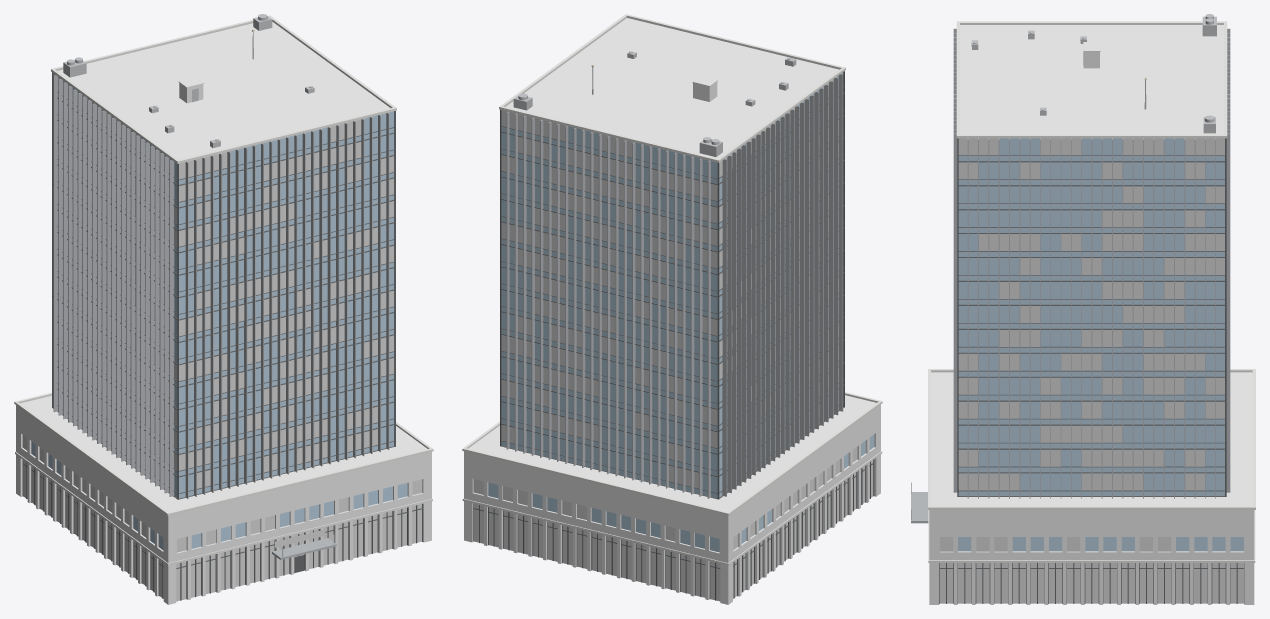
The model's file is tower_p260b.glb.
The picture shows the model from 3 angles, left to right: view 1: azimuth 30°, elevation 25°; view 2: azimuth 150°, elevation 25°; view 3: azimuth 270°, elevation 25°; orthographic projection. The views are drawn at different scales.
Visible parts, largest first — view 1: tower_p260b_Accent, tower_p260b_Glass, tower_p260b_Roof, tower_p260b_WindowsLit, tower_p260b_Walls2, tower_p260b_Frames, tower_p260b_Trim, tower_p260b_Details; view 2: tower_p260b_Accent, tower_p260b_Glass, tower_p260b_WindowsLit, tower_p260b_Roof, tower_p260b_Walls2, tower_p260b_Frames, tower_p260b_Trim, tower_p260b_Details; view 3: tower_p260b_Glass, tower_p260b_WindowsLit, tower_p260b_Roof, tower_p260b_Accent, tower_p260b_Walls2, tower_p260b_Frames, tower_p260b_Trim, tower_p260b_Details.
Part boxes in pixels (x1,y1,x2,y2): tower_p260b_Accent: [53, 75, 389, 559]; tower_p260b_Glass: [31, 87, 407, 549]; tower_p260b_Roof: [20, 22, 427, 512]; tower_p260b_WindowsLit: [22, 74, 422, 601]; tower_p260b_Walls2: [16, 83, 431, 604]; tower_p260b_Frames: [22, 72, 422, 600]; tower_p260b_Trim: [14, 15, 433, 565]; tower_p260b_Details: [63, 14, 334, 557]; tower_p260b_Accent: [506, 74, 843, 498]; tower_p260b_Glass: [488, 72, 874, 552]; tower_p260b_WindowsLit: [473, 79, 873, 601]; tower_p260b_Roof: [468, 18, 876, 511]; tower_p260b_Walls2: [464, 82, 880, 604]; tower_p260b_Frames: [473, 71, 874, 600]; tower_p260b_Trim: [462, 14, 882, 565]; tower_p260b_Details: [513, 51, 796, 156]; tower_p260b_Glass: [958, 138, 1243, 551]; tower_p260b_WindowsLit: [940, 138, 1243, 603]; tower_p260b_Roof: [931, 25, 1252, 506]; tower_p260b_Accent: [911, 28, 1230, 523]; tower_p260b_Walls2: [929, 52, 1254, 604]; tower_p260b_Frames: [939, 138, 1244, 603]; tower_p260b_Trim: [928, 21, 1255, 562]; tower_p260b_Details: [911, 14, 1216, 519].
Bounding box in the file's own units: 161 × 264 × 170.
